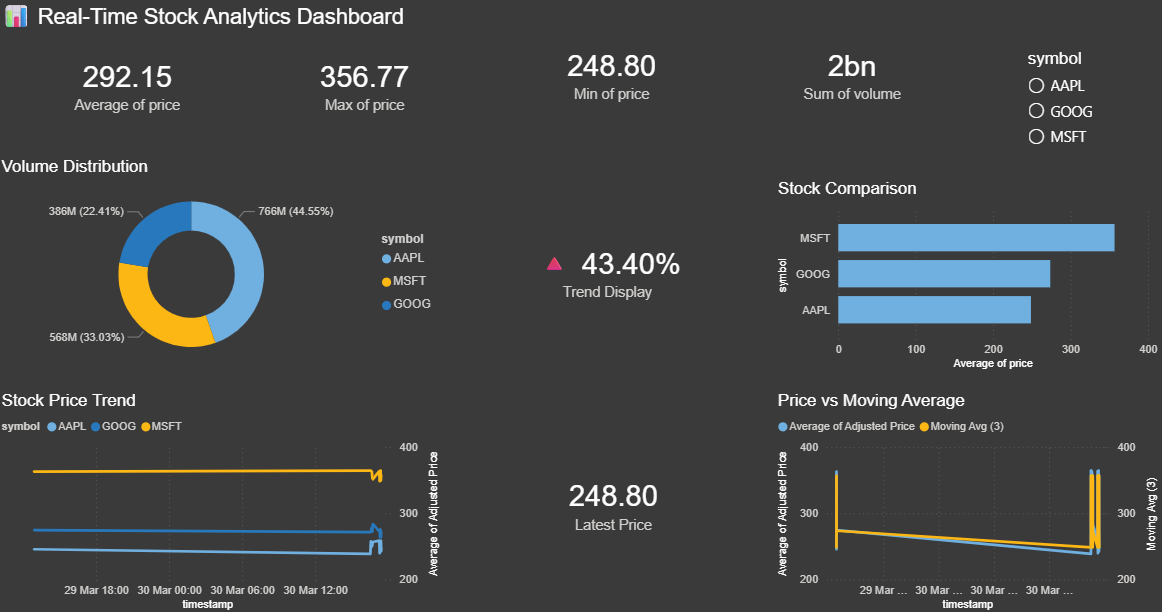

Layout of this report page (visuals, bound fields, positions):
{"tool":"powerbi","page":{"name":"Page 1","canvas":[1280,720],"ordinal":0},"visuals":[{"type":"card","fields":{"Values":["Avg(final csv.price)"]},"box":[0,21.4,286.5,230.9],"z":0},{"type":"card","fields":{"Values":["Max(final csv.price)"]},"box":[246.6,21.4,313.6,230.9],"z":1000},{"type":"card","fields":{"Values":["Min(final csv.price)"]},"box":[513.1,10,323.6,230.9],"z":2000},{"type":"card","fields":{"Values":["Sum(final csv.volume)"]},"box":[781.1,10,316.4,230.9],"z":3000},{"type":"listSlicer","fields":{"Values":["final csv.symbol"]},"box":[1126.6,98.8,153.7,260.7],"z":4000},{"type":"lineChart","title":"Stock Price Trend ","fields":{"Series":["final csv.symbol"],"Category":["final csv.timestamp"],"Y2":["Avg(final csv.Adjusted Price)"]},"box":[0,473.2,491.8,246.6],"z":5000},{"type":"donutChart","title":"Volume Distribution","fields":{"Y":["Sum(final csv.volume)"],"Category":["final csv.symbol"]},"box":[0,216.7,491.8,238],"z":6000},{"type":"barChart","title":"Stock Comparison","fields":{"Y":["Avg(final csv.price)"],"Category":["final csv.symbol"]},"box":[852.4,240.9,427.6,213.8],"z":7000},{"type":"card","fields":{"Values":["final csv.Latest Price"]},"box":[535.9,501.7,280.8,191],"z":8000},{"type":"card","fields":{"Values":["final csv.Trend Display"]},"box":[560.2,252.3,220.9,179.6],"z":9000},{"type":"lineChart","title":"Price vs Moving Average ","fields":{"Y":["Avg(final csv.Adjusted Price)"],"Category":["final csv.timestamp"],"Y2":["final csv.Moving Avg (3)"]},"box":[852.4,473.2,427.6,246.6],"z":10000},{"type":"textbox","box":[0,41.3,466.1,42.8],"z":11000}]}

Visuals, with their boxes on the page's 1280x720 design canvas (x1, y1, x2, y2). These are canvas units, not pixel positions in the 1162x612 screenshot, which may show the page scaled, cropped or inside an application window:
card - Avg(final csv.price): rect(0, 21, 286, 252)
card - Max(final csv.price): rect(247, 21, 560, 252)
card - Min(final csv.price): rect(513, 10, 837, 241)
card - Sum(final csv.volume): rect(781, 10, 1098, 241)
listSlicer - final csv.symbol: rect(1127, 99, 1280, 360)
"Stock Price Trend " lineChart: rect(0, 473, 492, 720)
"Volume Distribution" donutChart: rect(0, 217, 492, 455)
"Stock Comparison" barChart: rect(852, 241, 1280, 455)
card - final csv.Latest Price: rect(536, 502, 817, 693)
card - final csv.Trend Display: rect(560, 252, 781, 432)
"Price vs Moving Average " lineChart: rect(852, 473, 1280, 720)
textbox: rect(0, 41, 466, 84)
